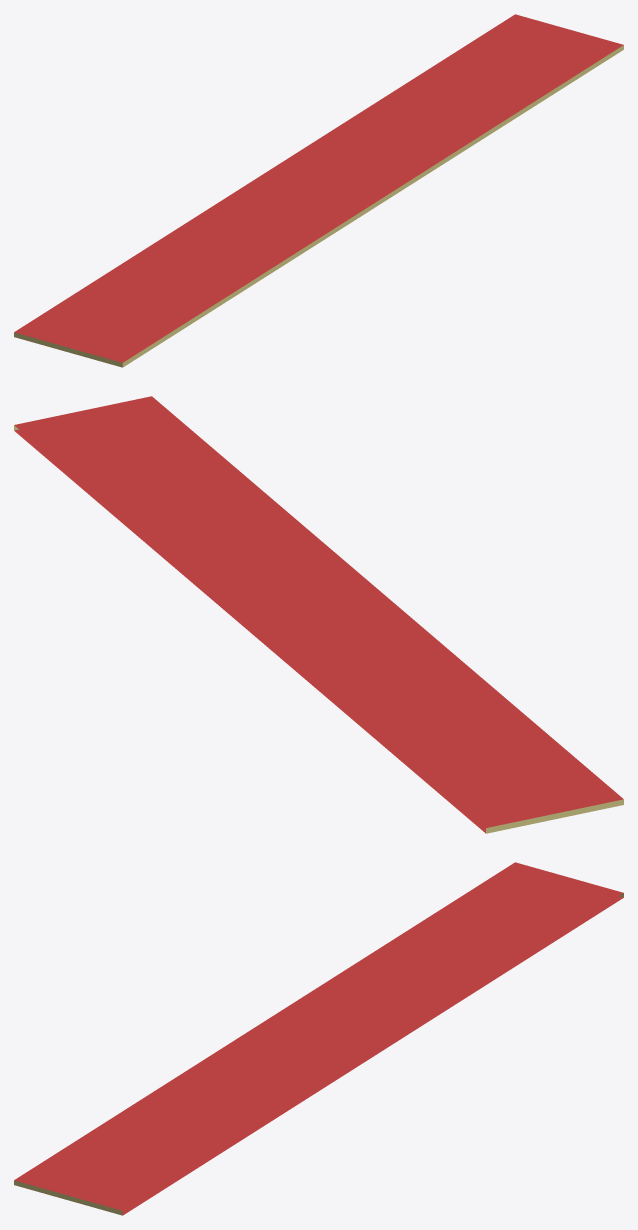
3 views of the same model, one above another, from view 1: azimuth 90°, elevation 25°; view 2: azimuth 150°, elevation 25°; view 3: azimuth 270°, elevation 25° (orthographic). The views are drawn at different scales.
Visible parts, largest first — view 1: group_3, group_4; view 2: group_3, group_5, group_4; view 3: group_3, group_5, group_4.
Boxes of the visible parts, x1,y1,x2,y2 form: group_3: [14, 14, 623, 362]; group_4: [14, 45, 623, 367]; group_3: [14, 396, 623, 827]; group_5: [14, 429, 485, 833]; group_4: [14, 425, 623, 833]; group_3: [14, 862, 623, 1210]; group_5: [122, 896, 623, 1215]; group_4: [14, 893, 623, 1215].
Size of the model in its own units: 15.59 by 11.53 by 0.1.
